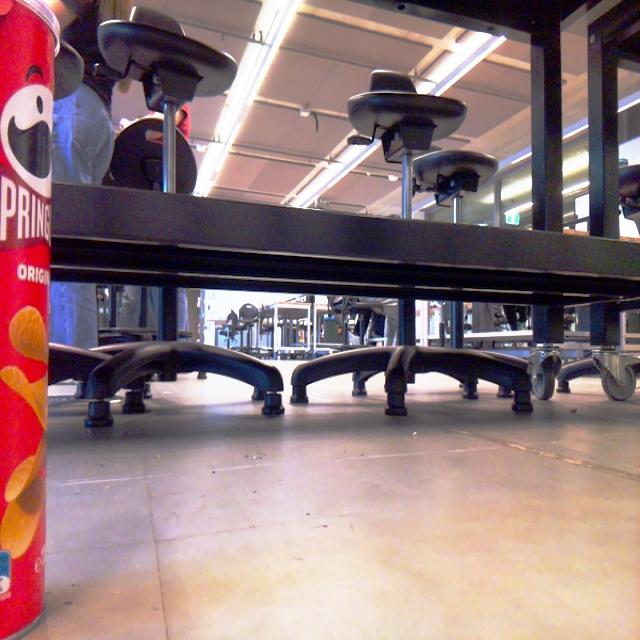redpringles: (0, 0, 111, 640)
